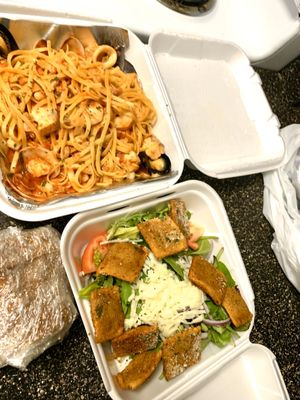sushi: (61, 180, 256, 398), (0, 23, 185, 224)
